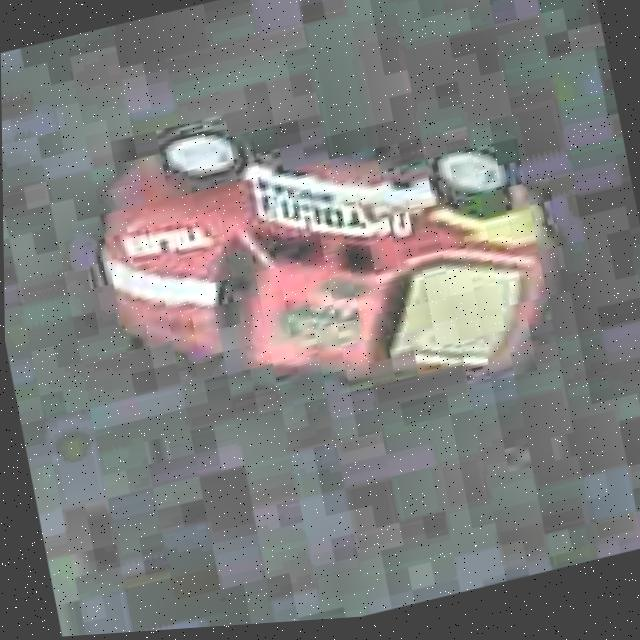car: (74, 26, 573, 466)
